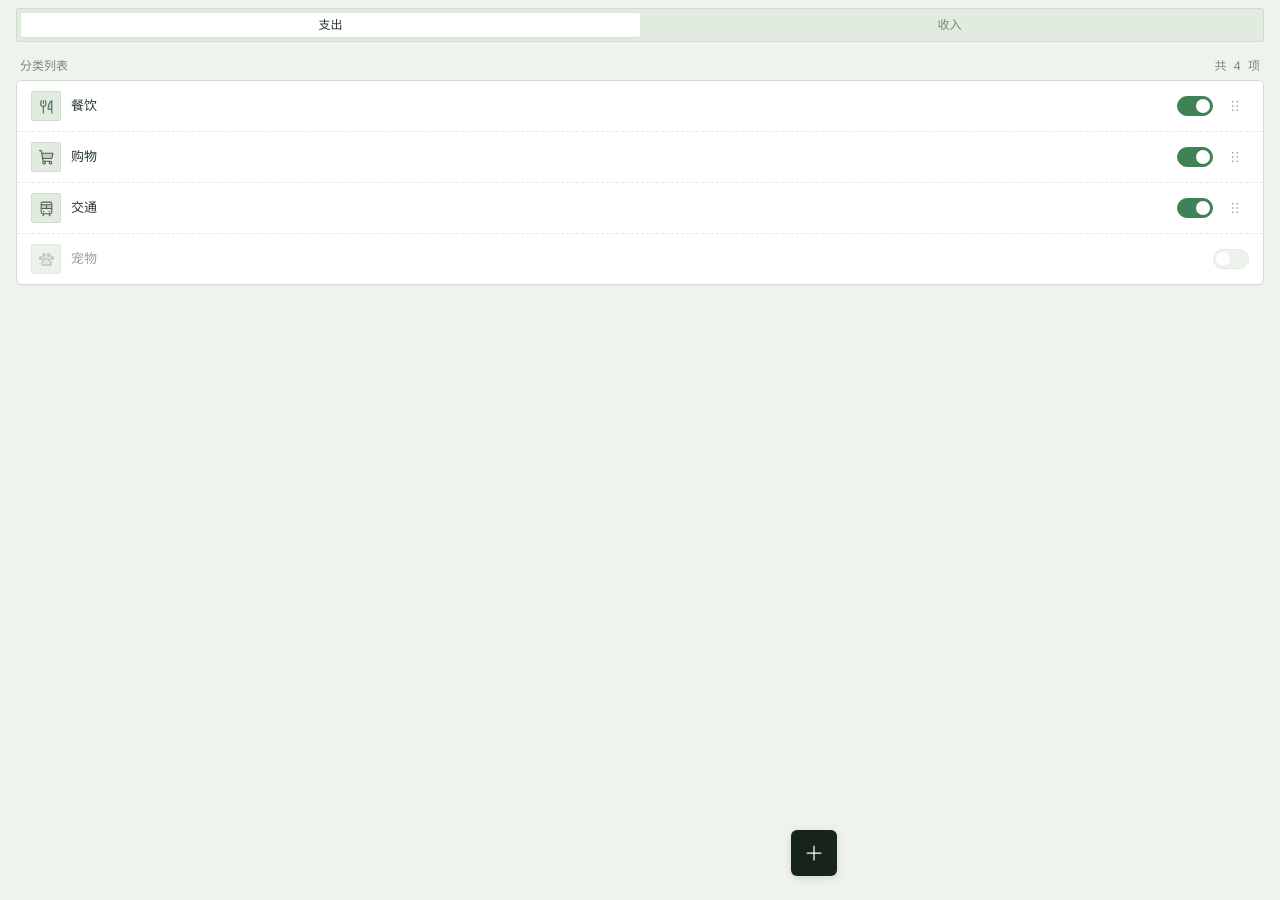
CategoryManageSubPage › renders 64 category icon choices in an 8x8 grid when adding a category
Click the button titled "新增分类" at (814,853), box [791, 830, 837, 876]
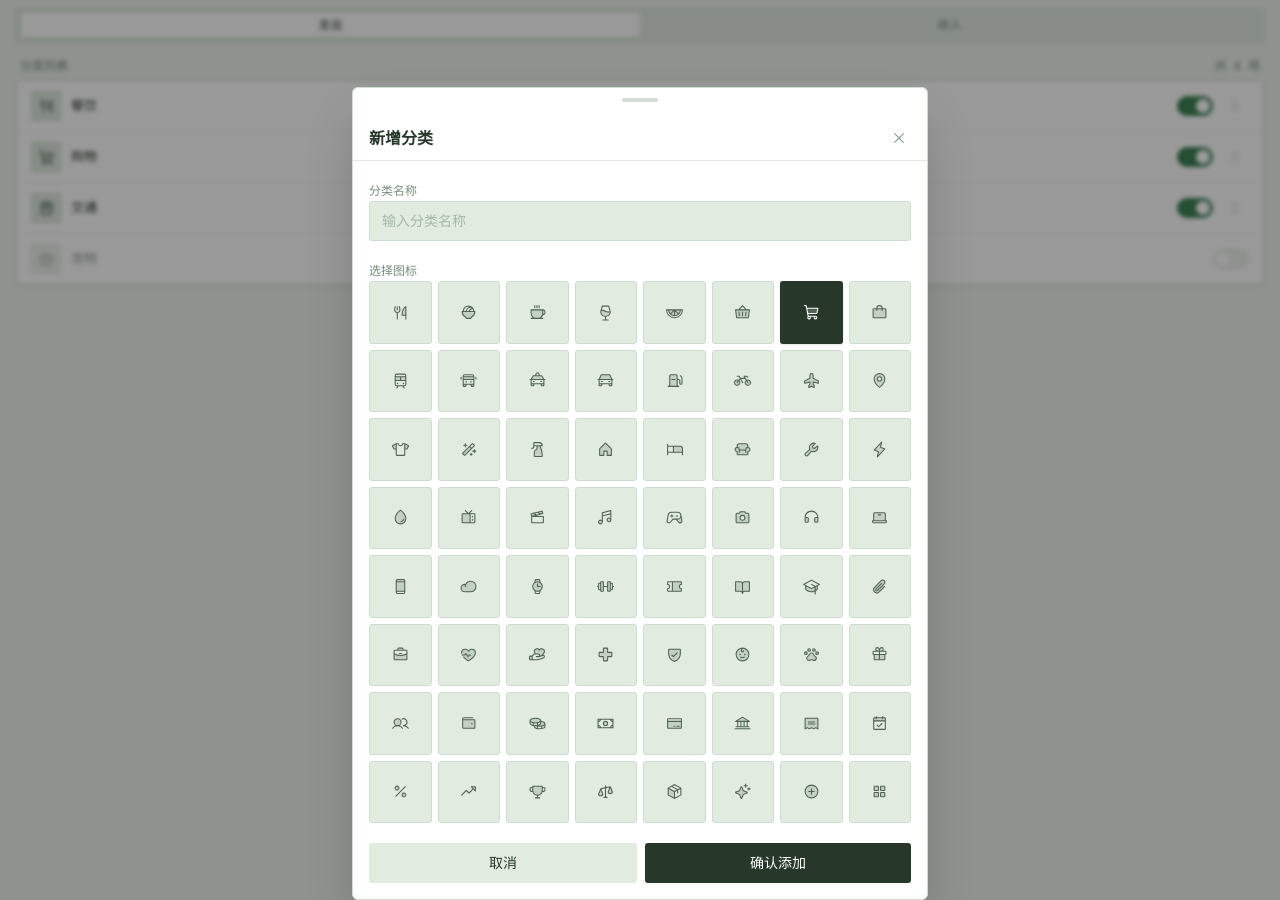
Check: the text "分类名称" is shown, box [369, 183, 417, 199]
Check: the element with class "grid-cols-8" is shown, box [369, 281, 911, 823]
